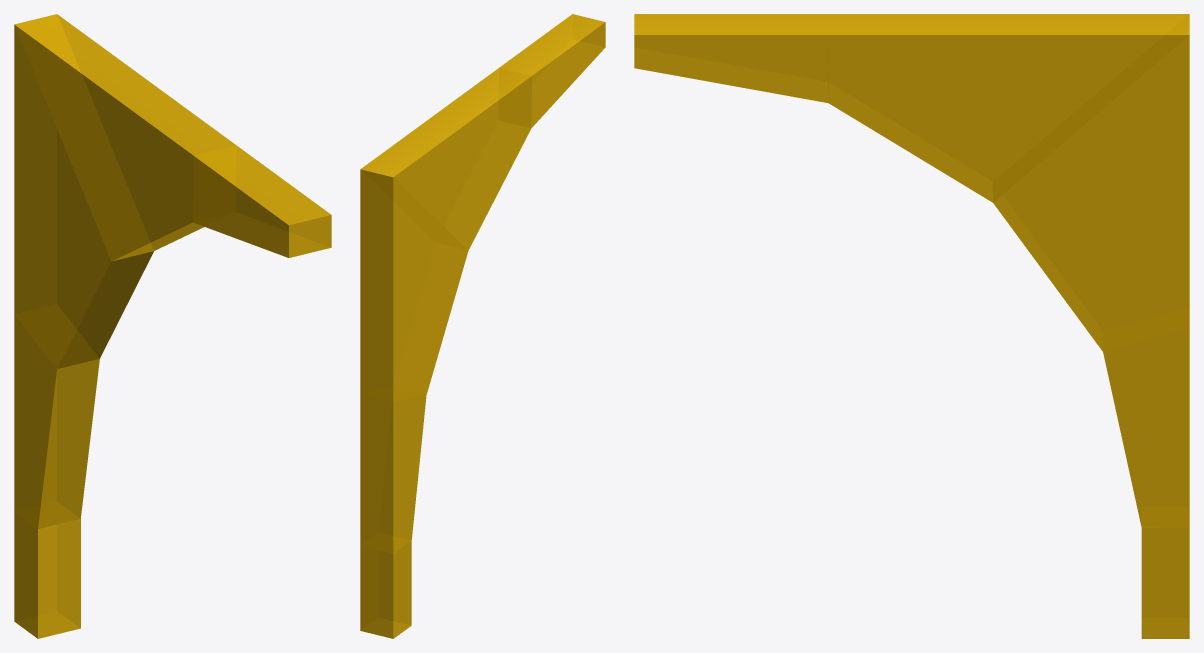
File: SM_Bld_Balcony_Manor_Arch_01_Collision.fbx
The picture shows the model from 3 angles, left to right: view 1: azimuth 30°, elevation 25°; view 2: azimuth 150°, elevation 25°; view 3: azimuth 270°, elevation 25°; orthographic projection. The views are drawn at different scales.
Visible parts, largest first — view 1: SM_Bld_Balcony_Manor_Arch_01_Collision; view 2: SM_Bld_Balcony_Manor_Arch_01_Collision; view 3: SM_Bld_Balcony_Manor_Arch_01_Collision.
Part boxes in pixels (x1,y1,x2,y2): SM_Bld_Balcony_Manor_Arch_01_Collision: (14,14,331,638); SM_Bld_Balcony_Manor_Arch_01_Collision: (360,14,605,638); SM_Bld_Balcony_Manor_Arch_01_Collision: (634,14,1189,638).
Bounding box in the file's own units: 22.5 × 300 × 250.
